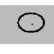no answer: (14, 11, 47, 35)
